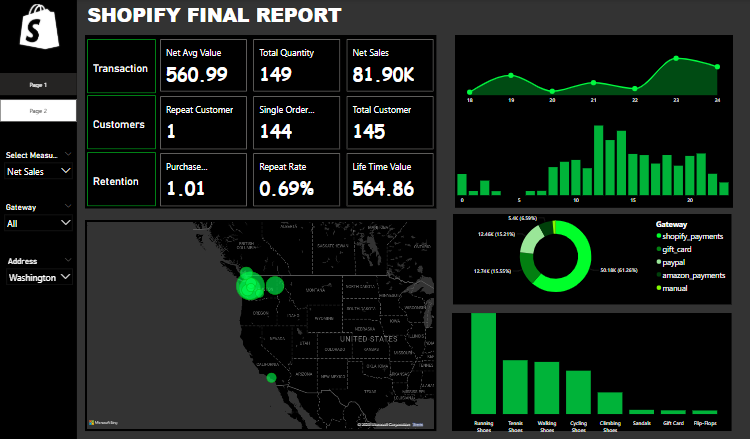

The dashboard page shown, as its layout file describes it:
{"tool":"powerbi","page":{"name":"Page 1","canvas":[1700,1000],"ordinal":0},"visuals":[{"type":"shape","box":[0,0,174.4,1000],"z":0},{"type":"textbox","box":[192.3,0,794.1,86],"z":1000},{"type":"shape","box":[192.5,82.5,795,392.5],"z":2000},{"type":"cardVisual","fields":{"Data":["shopify_sales.Net Avg Value","shopify_sales.Total Quantity","shopify_sales.Net Sales"]},"box":[357.5,86,629,129],"z":3000},{"type":"cardVisual","fields":{"Data":["shopify_sales.TP"]},"box":[192.5,85,165,132.5],"z":4000},{"type":"cardVisual","fields":{"Data":["shopify_sales.RC","shopify_sales.SOC","shopify_sales.TC"]},"box":[357.5,215,630,130],"z":5000},{"type":"cardVisual","fields":{"Data":["shopify_sales.CB"]},"box":[192.5,212.5,165,132.5],"z":6000},{"type":"cardVisual","fields":{"Data":["shopify_sales.Purchase Frequency","shopify_sales.Repeat Rate","shopify_sales.Life Time Value"]},"box":[357.5,345,630,130],"z":7000},{"type":"cardVisual","fields":{"Data":["shopify_sales.Retention"]},"box":[192.5,342.5,165,132.5],"z":8000},{"type":"shape","box":[192.5,500,795,477.5],"z":9000},{"type":"map","fields":{"Size":["Sum(shopify_sales.Billing Address Zip)"],"Category":["shopify_sales.CITY"]},"box":[192.5,500,795,477.5],"z":10000},{"type":"shape","box":[1029.4,81.4,629,391.4],"z":11000},{"type":"areaChart","fields":{"Y":["shopify_sales.Net Sales"],"Category":["shopify_sales.Invoice Date.Variation.Date Hierarchy.Day"]},"box":[1047.5,86,590.5,160.6],"z":12000},{"type":"columnChart","fields":{"Y":["shopify_sales.Net Sales"],"Category":["shopify_sales.Hour"]},"box":[1029.5,247.7,650,227.3],"z":13000},{"type":"shape","box":[1025.6,486,630.2,204.7],"z":14000},{"type":"donutChart","fields":{"Y":["shopify_sales.Net Sales"],"Category":["shopify_sales.Gateway"]},"box":[1025.6,472.1,630.2,218.6],"z":15000},{"type":"shape","box":[1023.3,709.3,632.6,267.4],"z":16000},{"type":"columnChart","fields":{"Y":["shopify_sales.Net Sales"],"Category":["shopify_sales.Product Type"]},"box":[1023.3,690.7,634.9,300],"z":17000},{"type":"image","box":[4.7,7,169.8,111.6],"z":18000},{"type":"slicer","fields":{"Values":["Select Measure.Select Measure"]},"box":[0,337.2,174.4,72.1],"z":19000},{"type":"slicer","fields":{"Values":["shopify_sales.Gateway"]},"box":[0,455.8,174.4,88.4],"z":20000},{"type":"slicer","fields":{"Values":["shopify_sales.Billing Address Province"]},"box":[4.7,576.7,169.8,86],"z":21000},{"type":"pageNavigator","box":[0,166.7,173.3,111.1],"z":22000}]}

Visuals, with their boxes on the page's 1700x1000 design canvas (x1, y1, x2, y2). These are canvas units, not pixel positions in the 750x439 screenshot, which may show the page scaled, cropped or inside an application window:
shape: l=0, t=0, r=174, b=1000
textbox: l=192, t=0, r=986, b=86
shape: l=192, t=82, r=988, b=475
cardVisual - shopify_sales.Net Avg Value x shopify_sales.Total Quantity: l=358, t=86, r=986, b=215
cardVisual - shopify_sales.TP: l=192, t=85, r=358, b=218
cardVisual - shopify_sales.RC x shopify_sales.SOC: l=358, t=215, r=988, b=345
cardVisual - shopify_sales.CB: l=192, t=212, r=358, b=345
cardVisual - shopify_sales.Purchase Frequency x shopify_sales.Repeat Rate: l=358, t=345, r=988, b=475
cardVisual - shopify_sales.Retention: l=192, t=342, r=358, b=475
shape: l=192, t=500, r=988, b=978
map - Sum(shopify_sales.Billing Address Zip) x shopify_sales.CITY: l=192, t=500, r=988, b=978
shape: l=1029, t=81, r=1658, b=473
areaChart - shopify_sales.Net Sales x shopify_sales.Invoice Date.Variation.Date Hierarchy.Day: l=1048, t=86, r=1638, b=247
columnChart - shopify_sales.Net Sales x shopify_sales.Hour: l=1030, t=248, r=1680, b=475
shape: l=1026, t=486, r=1656, b=691
donutChart - shopify_sales.Net Sales x shopify_sales.Gateway: l=1026, t=472, r=1656, b=691
shape: l=1023, t=709, r=1656, b=977
columnChart - shopify_sales.Net Sales x shopify_sales.Product Type: l=1023, t=691, r=1658, b=991
image: l=5, t=7, r=174, b=119
slicer - Select Measure.Select Measure: l=0, t=337, r=174, b=409
slicer - shopify_sales.Gateway: l=0, t=456, r=174, b=544
slicer - shopify_sales.Billing Address Province: l=5, t=577, r=174, b=663
pageNavigator: l=0, t=167, r=173, b=278
